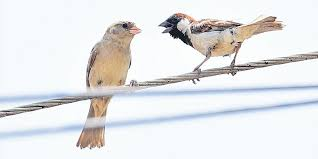home_sparrow: (66, 17, 149, 153), (144, 4, 277, 86)
